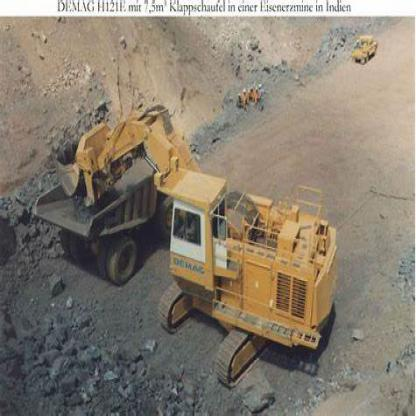excavator: (56, 115, 359, 398)
